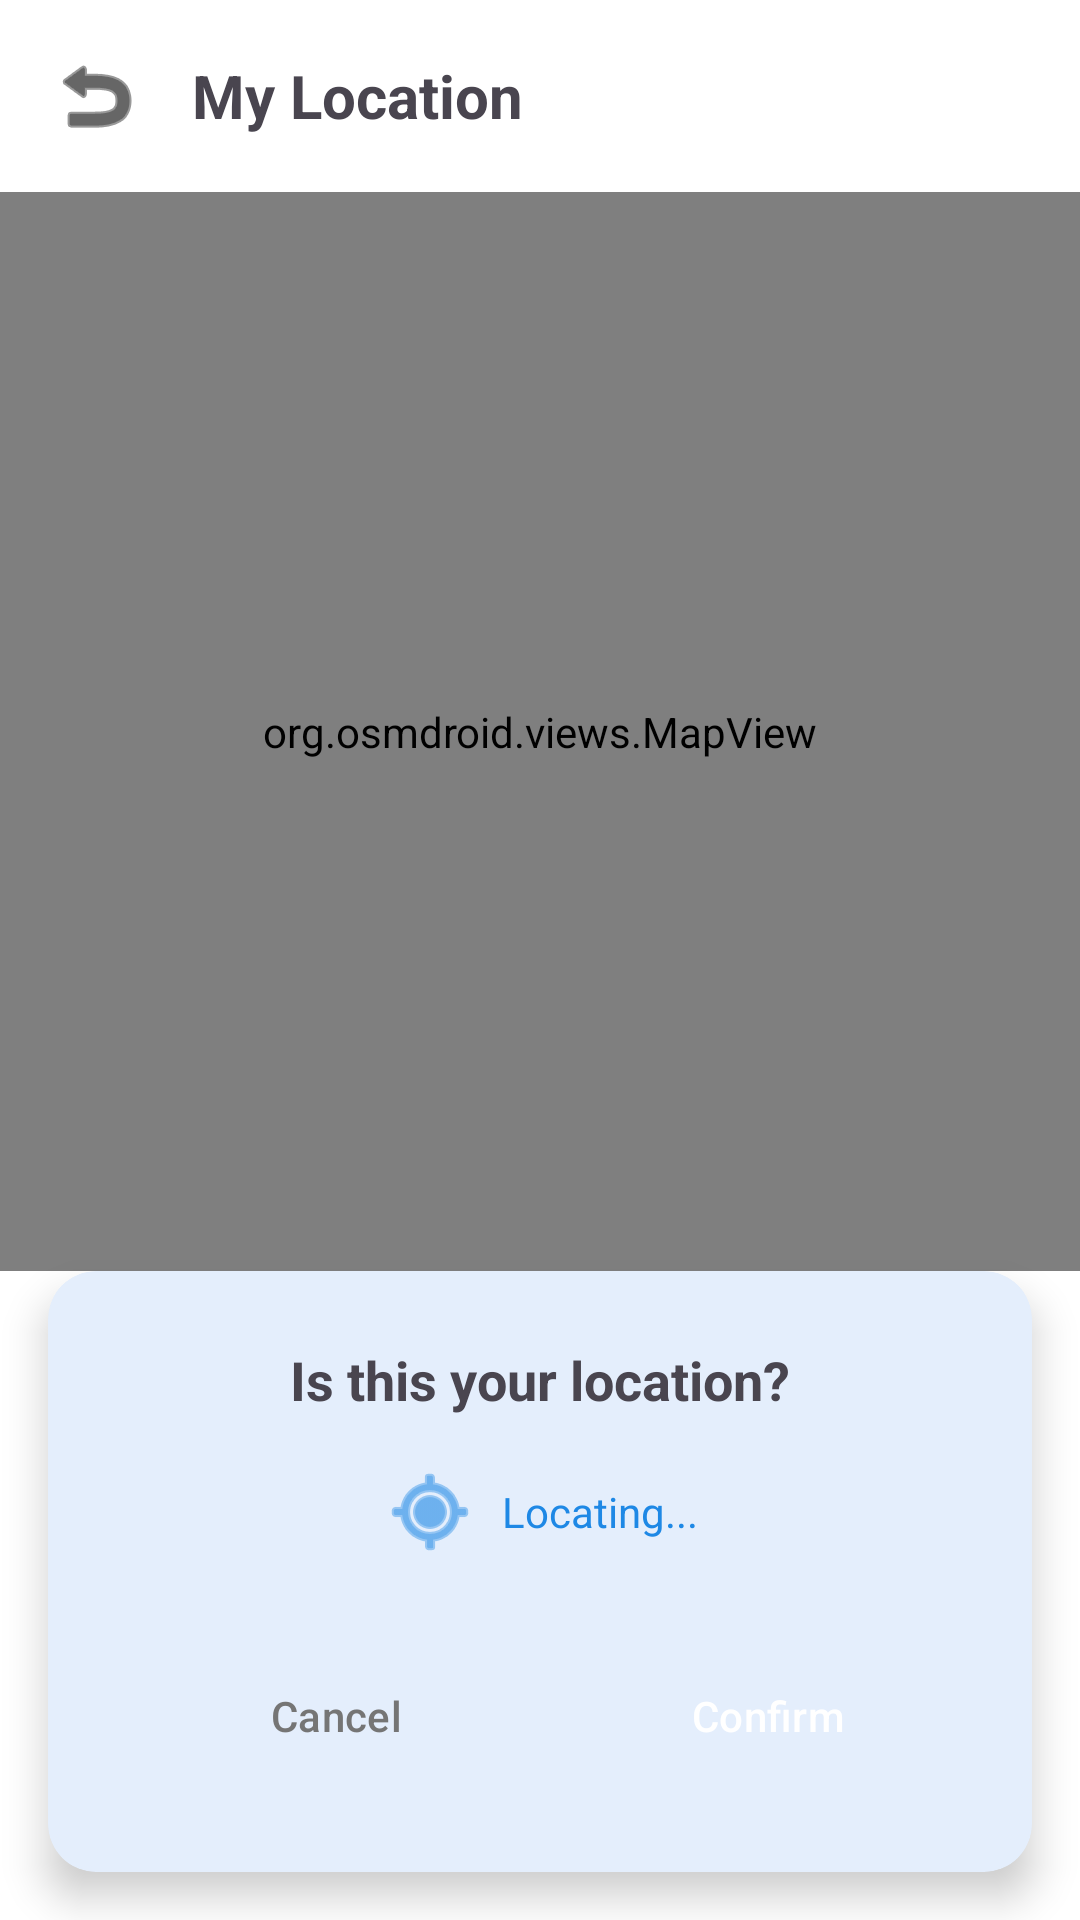

Point at icon controls on the screen. Image size 1080 × 1920, points as point (x, y).
revert: point (97, 96)
